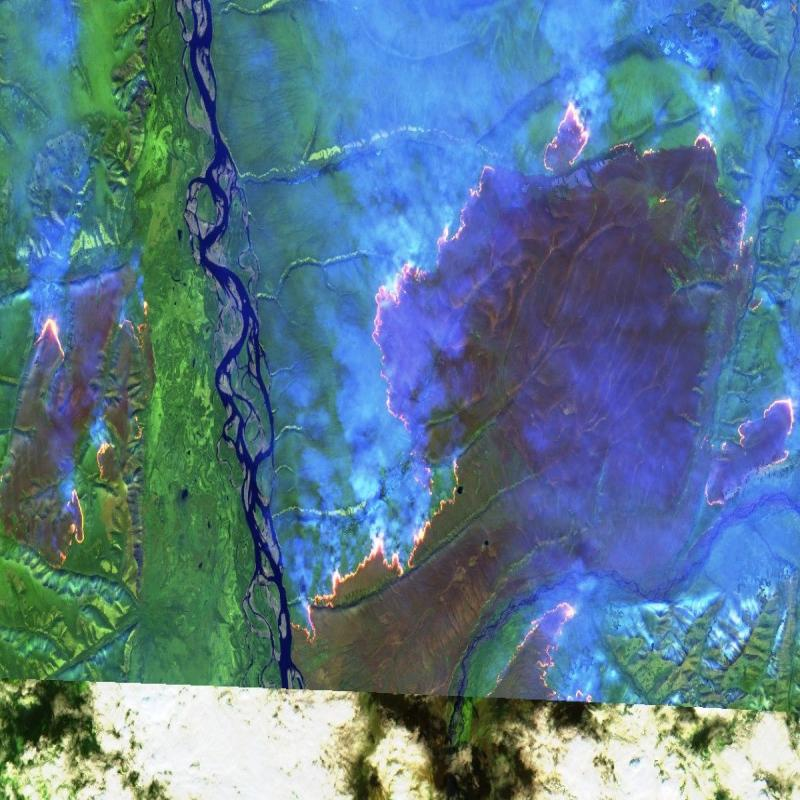fire: (0, 92, 800, 714)
